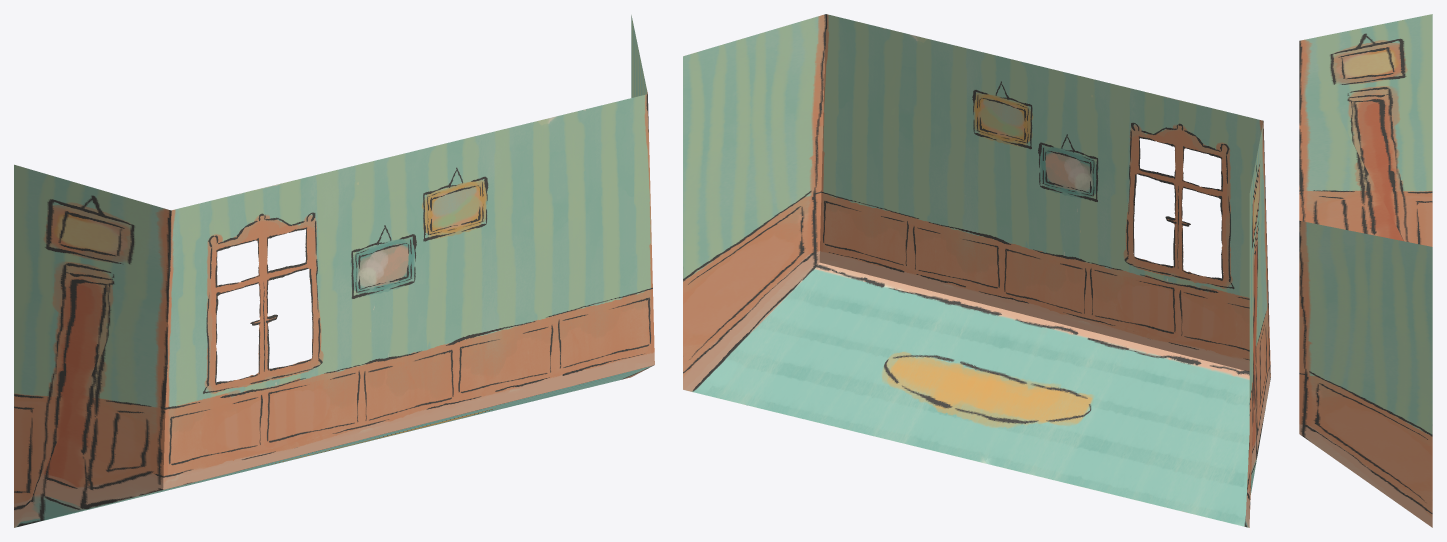
The model's file is scene_salon 1.fbx.
The picture shows the model from 3 angles, left to right: view 1: azimuth 30°, elevation 25°; view 2: azimuth 150°, elevation 25°; view 3: azimuth 270°, elevation 25°; orthographic projection. The views are drawn at different scales.
Parts seen in each view (by area): view 1: Plane; view 2: Plane; view 3: Plane.
Boxes of the visible parts, x1,y1,x2,y2 form: Plane: (14, 15, 654, 527); Plane: (683, 14, 1270, 527); Plane: (1299, 14, 1432, 527).
Bounding box in the file's own units: 102 × 24.61 × 57.24.
1 material, 1 textured.
